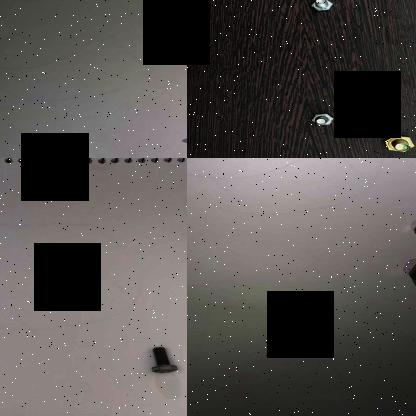Bolts: (139, 342, 181, 376), (379, 131, 416, 158), (308, 110, 338, 126), (308, 0, 335, 14)
NUTS: (403, 260, 416, 285)
